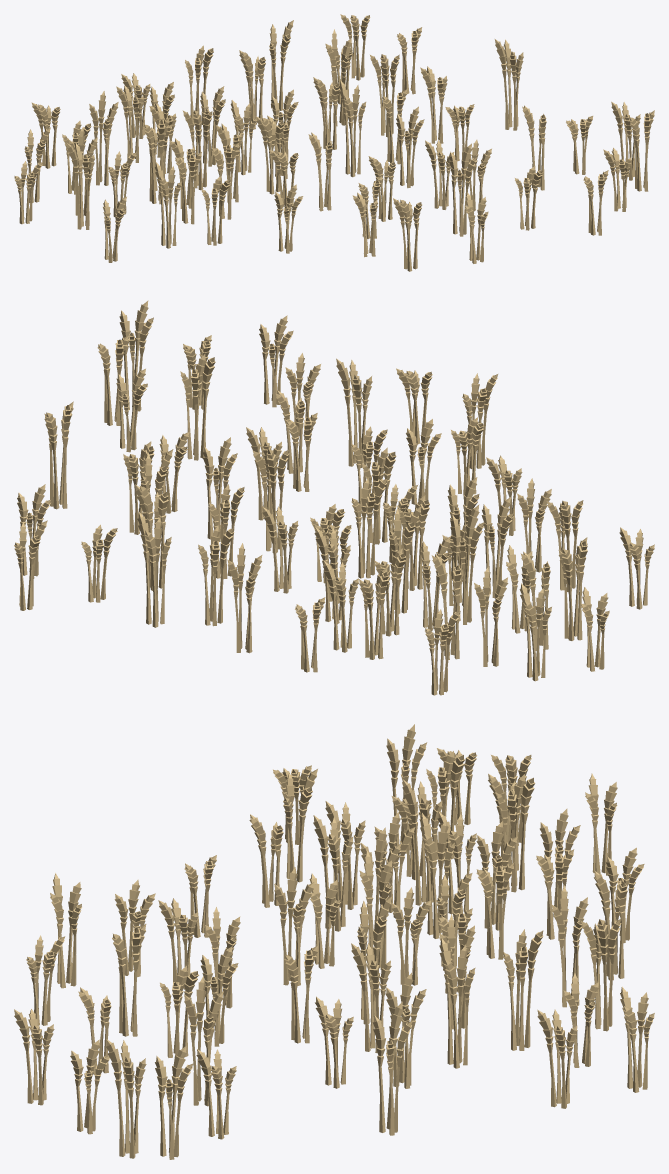
File: Wheat_Field.fbx
3 views of the same model, one above another, from view 1: azimuth 30°, elevation 25°; view 2: azimuth 150°, elevation 25°; view 3: azimuth 270°, elevation 25° (orthographic). The views are drawn at different scales.
Parts seen in each view (by area): view 1: WheatField_LOD_1, WheatField_LOD_2; view 2: WheatField_LOD_1, WheatField_LOD_2; view 3: WheatField_LOD_1, WheatField_LOD_2.
Boxes of the visible parts, bbox=[...] form: WheatField_LOD_1: bbox=[14, 14, 654, 271]; WheatField_LOD_2: bbox=[23, 42, 645, 266]; WheatField_LOD_1: bbox=[14, 300, 654, 695]; WheatField_LOD_2: bbox=[22, 356, 646, 691]; WheatField_LOD_1: bbox=[14, 724, 654, 1159]; WheatField_LOD_2: bbox=[29, 782, 645, 1155].
Bounding box in the file's own units: 4.83 × 3.78 × 0.7952.
